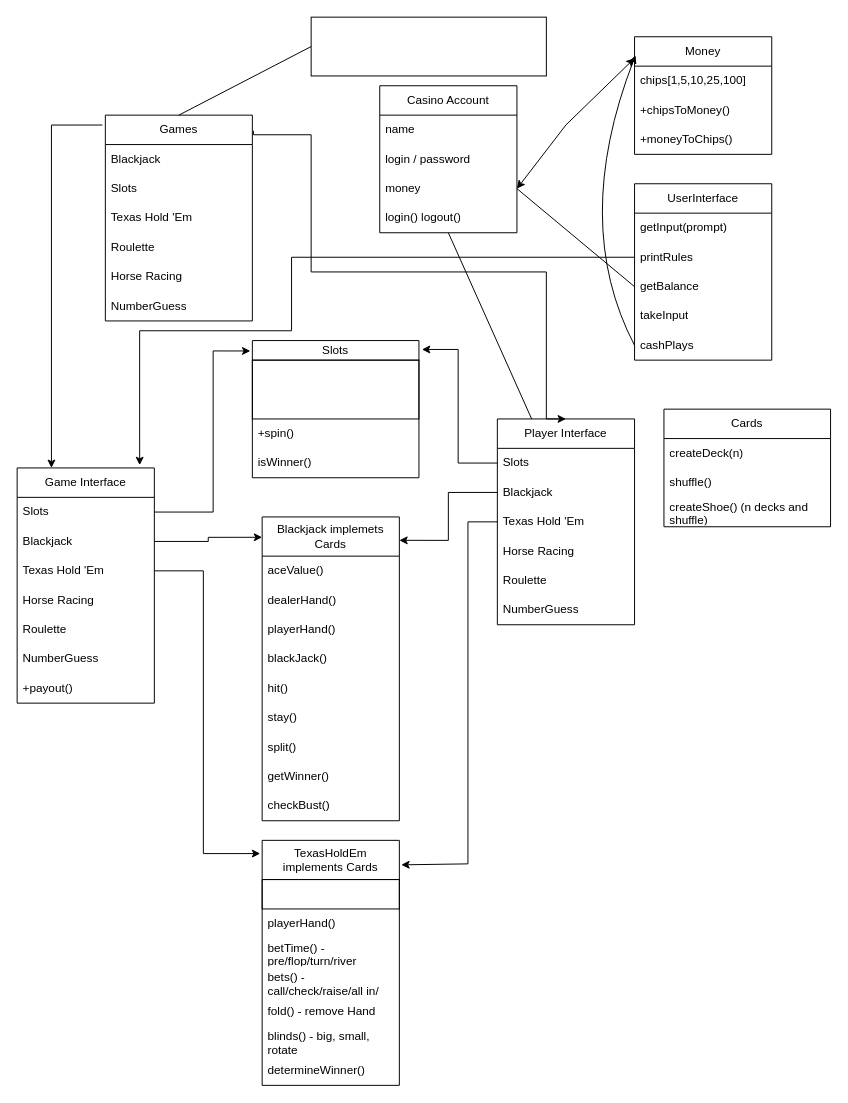
Image size: 848x1103. Some labels were removed from this diagram. Each missing label, with the centre of its shape:
-column1[] -column2[] -column3[]: (x=335, y=389)
-thePot: (x=330, y=894)
Zeta Casino: (x=428, y=46)
